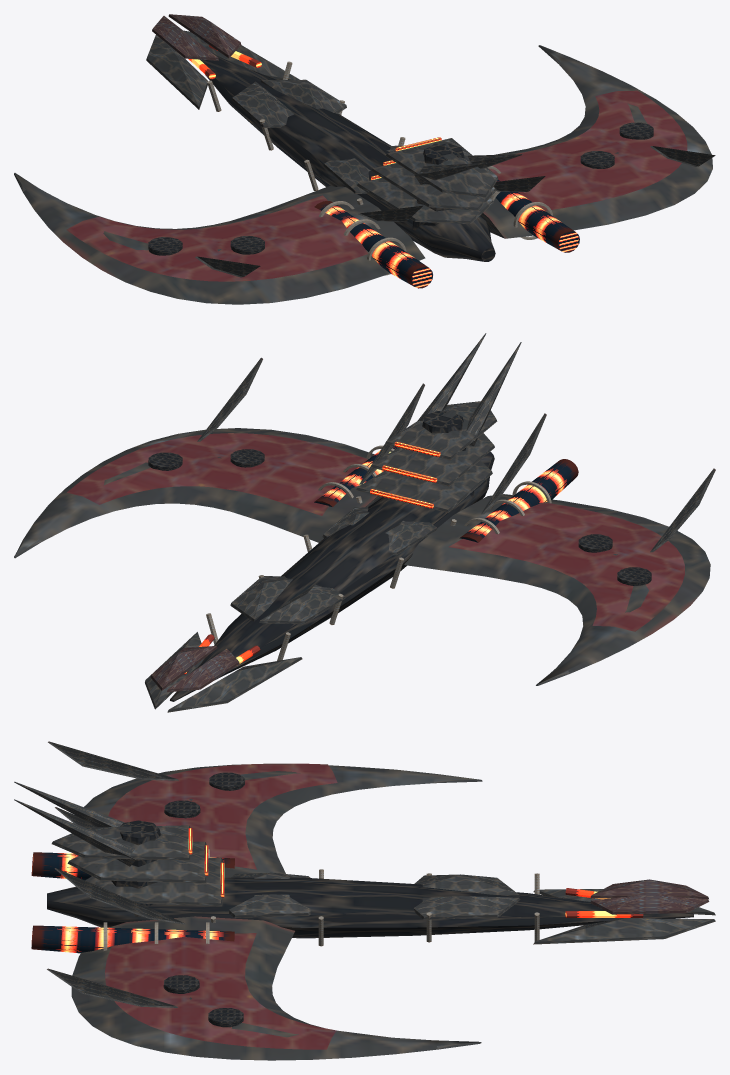
File: dynasty_destroyer_recreated_lod1.glb
3 renders of one model, top to bottom at view 1: azimuth 30°, elevation 25°; view 2: azimuth 150°, elevation 25°; view 3: azimuth 270°, elevation 25°, orthographic. The views are drawn at different scales.
Parts seen in each view (by area): view 1: dynasty_destroyer_lod_source; view 2: dynasty_destroyer_lod_source; view 3: dynasty_destroyer_lod_source.
Part boxes in pixels (bbox=[...]): dynasty_destroyer_lod_source: bbox=[14, 14, 715, 304]; dynasty_destroyer_lod_source: bbox=[14, 333, 715, 712]; dynasty_destroyer_lod_source: bbox=[14, 741, 715, 1060].
Bounding box in the file's own units: 1.9 × 0.4212 × 1.9.
Materials: 1 (1 with a texture image).
